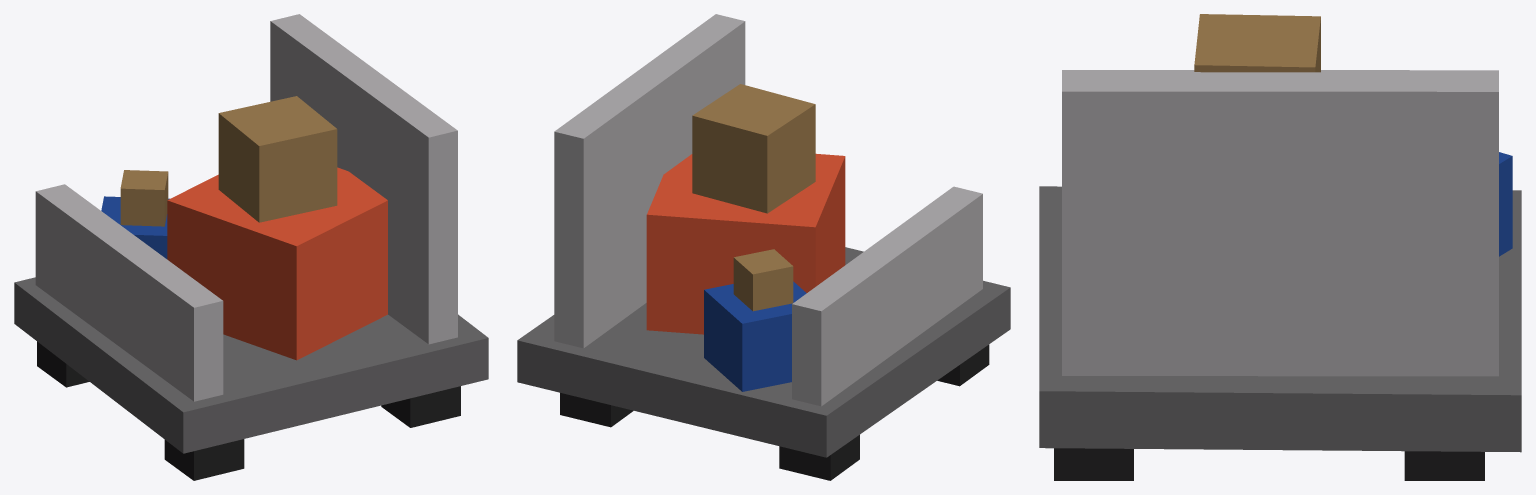
File: cart.glb
The picture shows the model from 3 angles, left to right: view 1: azimuth 30°, elevation 25°; view 2: azimuth 150°, elevation 25°; view 3: azimuth 270°, elevation 25°; orthographic projection. The views are drawn at different scales.
Parts seen in each view (by area): view 1: Cube; view 2: Cube; view 3: Cube.
Boxes of the visible parts, x1,y1,x2,y2 form: Cube: (14, 14, 488, 480); Cube: (517, 14, 1010, 480); Cube: (1039, 14, 1521, 480).
Bounding box in the file's own units: 2.04 × 1.77 × 1.99.
